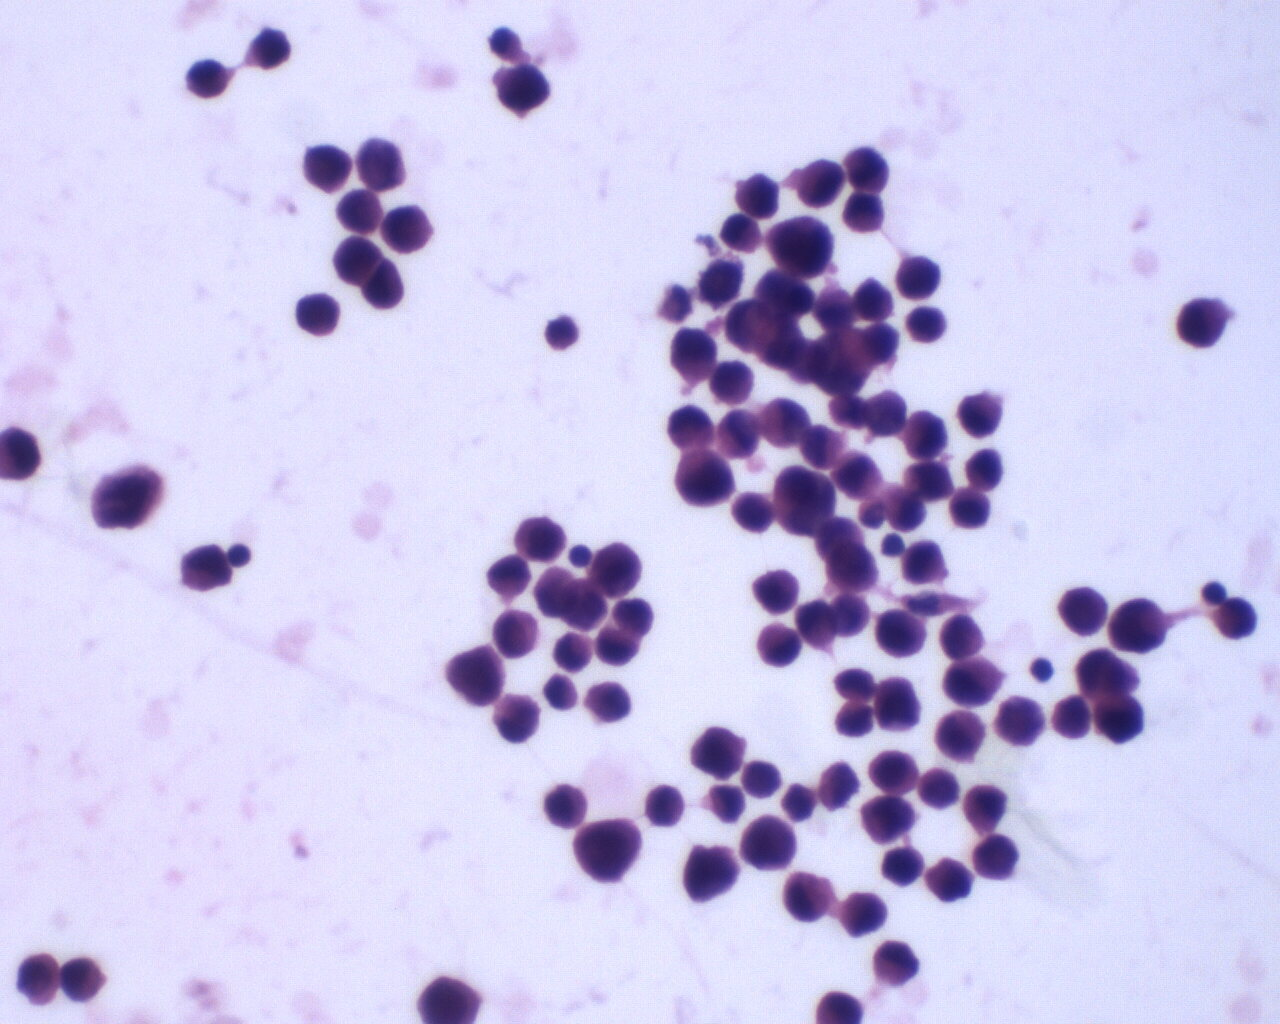ab: (83, 453, 170, 544), (571, 815, 648, 890), (438, 639, 511, 712), (489, 56, 559, 123), (678, 840, 745, 909), (766, 215, 838, 279), (686, 719, 752, 783), (675, 450, 736, 515), (990, 691, 1049, 752), (856, 792, 922, 847), (1109, 596, 1169, 655), (588, 538, 646, 601), (739, 814, 798, 874), (1176, 292, 1233, 351), (932, 708, 990, 766), (874, 606, 931, 664), (942, 658, 1008, 708), (355, 136, 412, 193), (760, 394, 814, 453), (792, 154, 848, 209), (381, 202, 437, 258), (299, 140, 355, 195), (666, 325, 718, 385), (1056, 582, 1111, 638), (835, 886, 891, 939), (825, 544, 885, 595), (867, 747, 924, 798), (1093, 694, 1148, 745), (938, 610, 994, 661), (835, 448, 885, 502), (970, 831, 1021, 882), (491, 607, 541, 659), (892, 252, 944, 302), (904, 408, 952, 461), (515, 515, 568, 563), (752, 565, 801, 616), (336, 188, 385, 238), (295, 289, 343, 339), (712, 358, 758, 406), (948, 486, 994, 533)
lymph: (1028, 653, 1058, 686)
